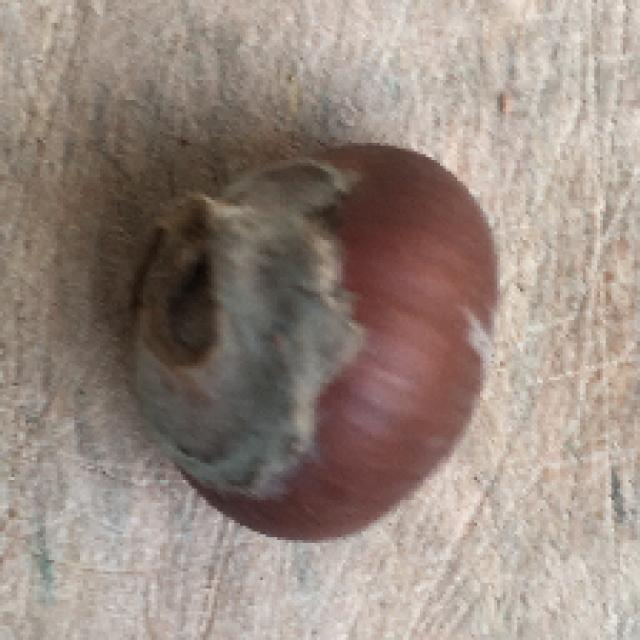damagedHazelnut: (120, 137, 497, 534)
